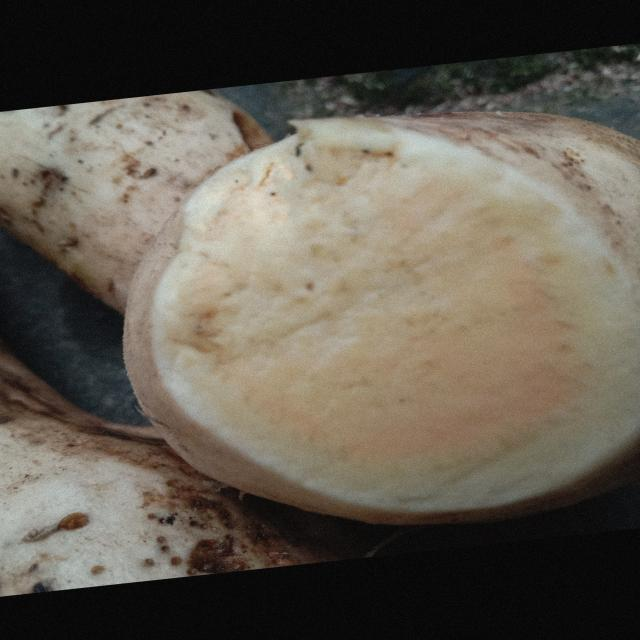Healthy Sweet Potato: (125, 130, 638, 524)
